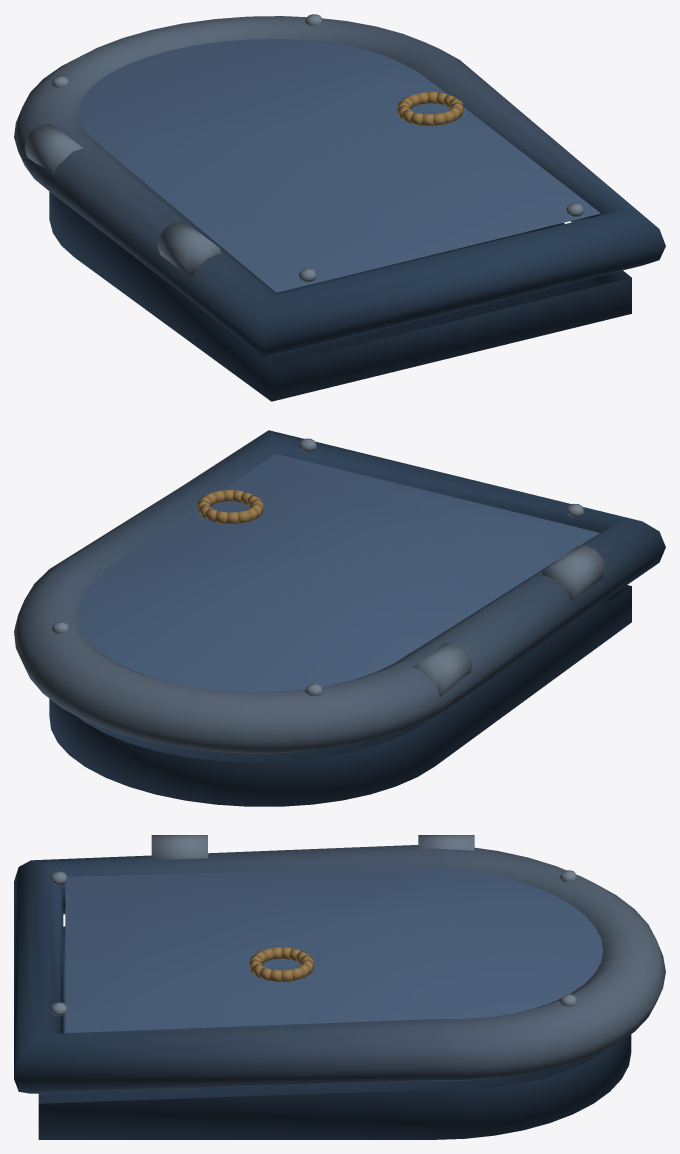
Rendered from Door.glb.
3 views of the same model, one above another, from view 1: azimuth 30°, elevation 25°; view 2: azimuth 150°, elevation 25°; view 3: azimuth 270°, elevation 25° (orthographic).
Parts seen in each view (by area): view 1: lamplighter__Door__hatch; view 2: lamplighter__Door__hatch; view 3: lamplighter__Door__hatch.
Boxes of the visible parts, x1,y1,x2,y2 form: lamplighter__Door__hatch: [14, 14, 665, 401]; lamplighter__Door__hatch: [14, 430, 665, 806]; lamplighter__Door__hatch: [14, 835, 665, 1139].
Size of the model in its own units: 0.4125 by 0.132 by 0.55.
